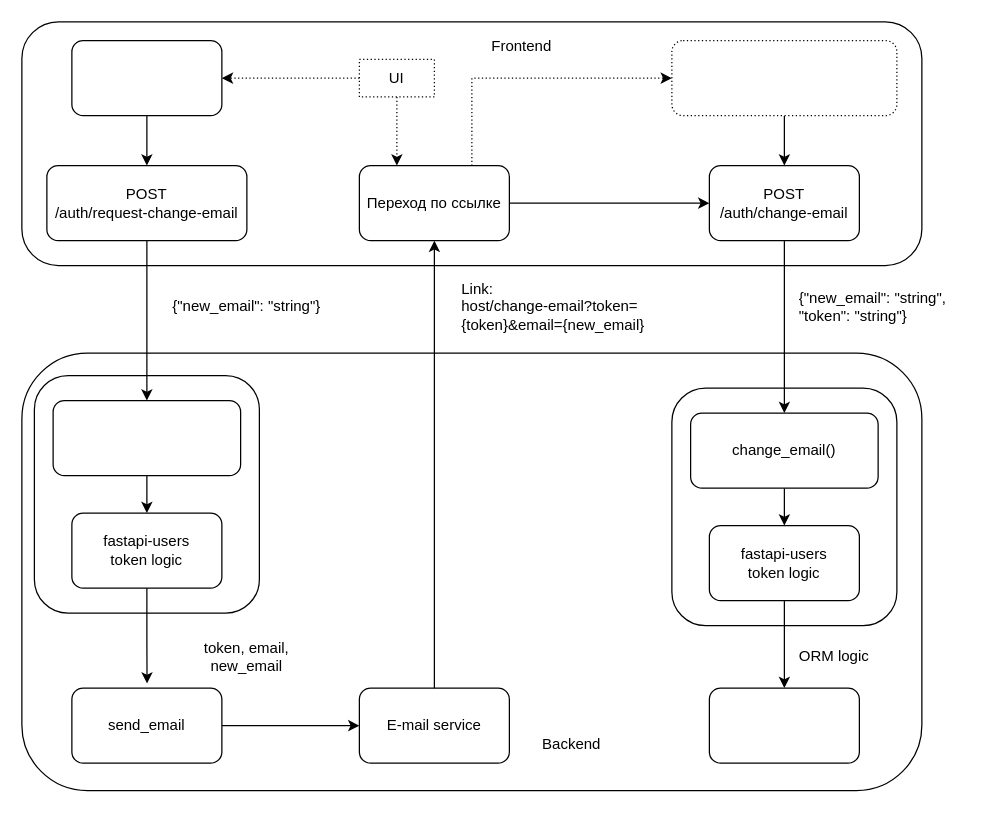
Some shapes in this 994 by 813 pixel diagram are drawn without their labels. Each missing label, with the box of its shape:
email={new_email}: (708, 687, 859, 763)
host/change-email?token={token}&email={new_email} -> token, new_email: (671, 39, 897, 116)
request_change_email(): (52, 399, 241, 476)
Запрос смены почты: (71, 39, 222, 116)
